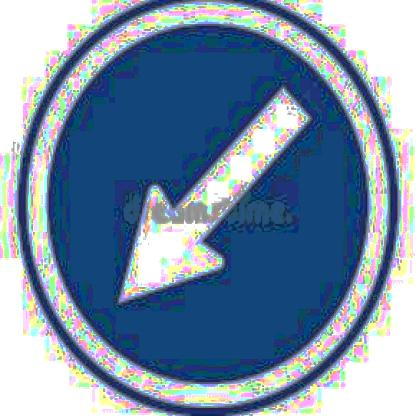Keep left: (20, 0, 410, 416)
